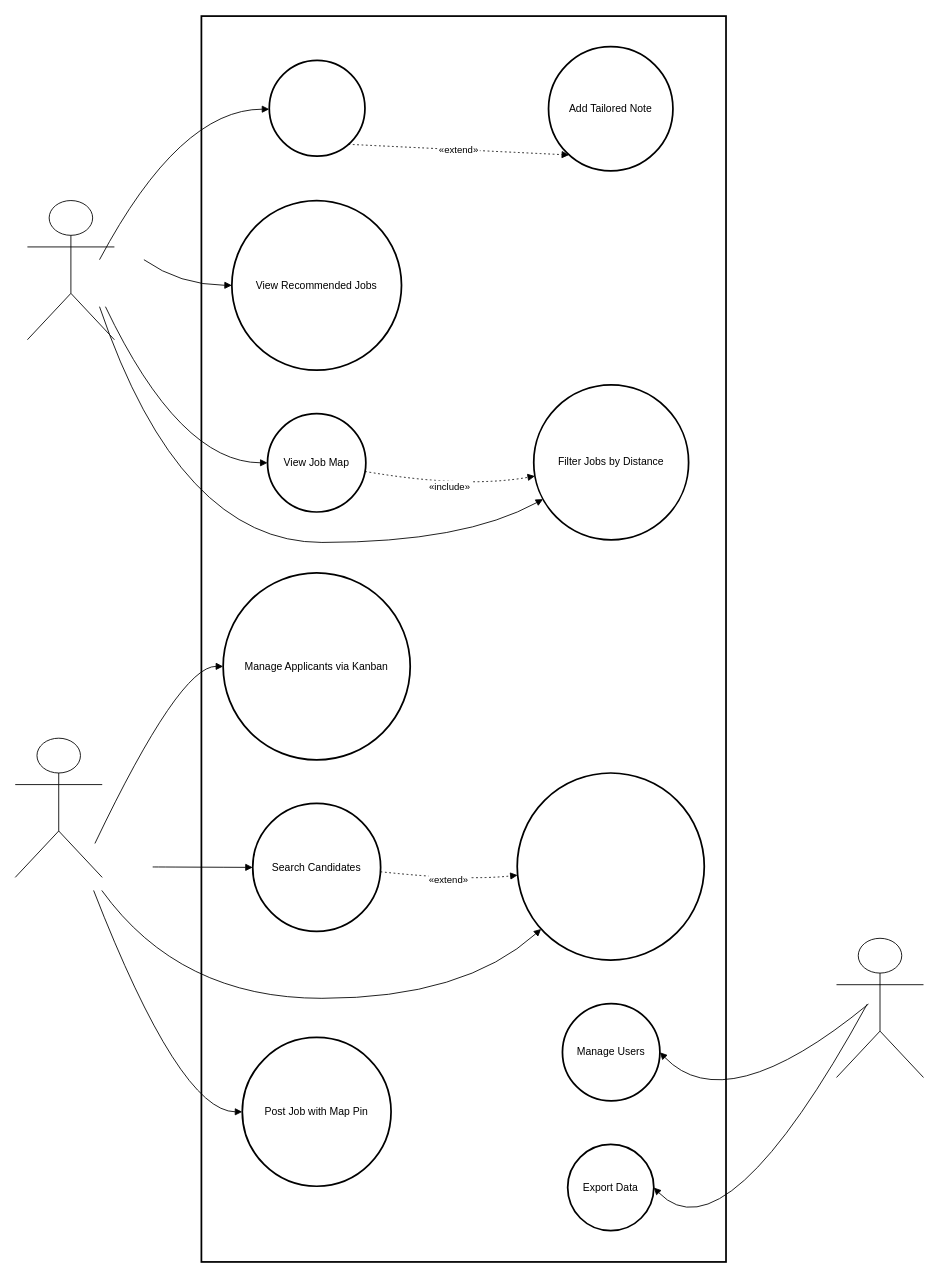
The diagram is 947 pixels wide and 1277 high, and some of its shapes have lost their labels. The shapes that lost their labels are listed below. From the top down, each one's centre as x and y in pixels, then its label:
the point at 316,108: Apply for Job
the point at 70,270: Job Seeker
the point at 58,807: Recruiter
the point at 610,866: Save Search & Receive Alerts
the point at 880,1007: Administrator
